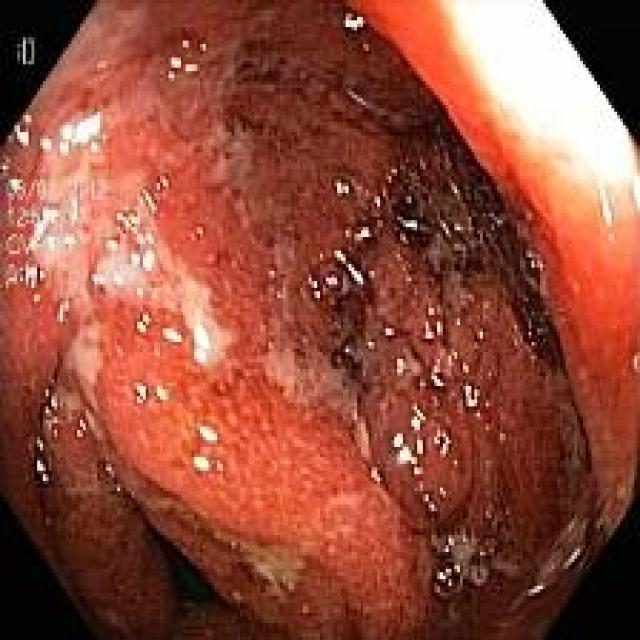ulcerative-colitis-grade-3: (2, 4, 592, 640)
